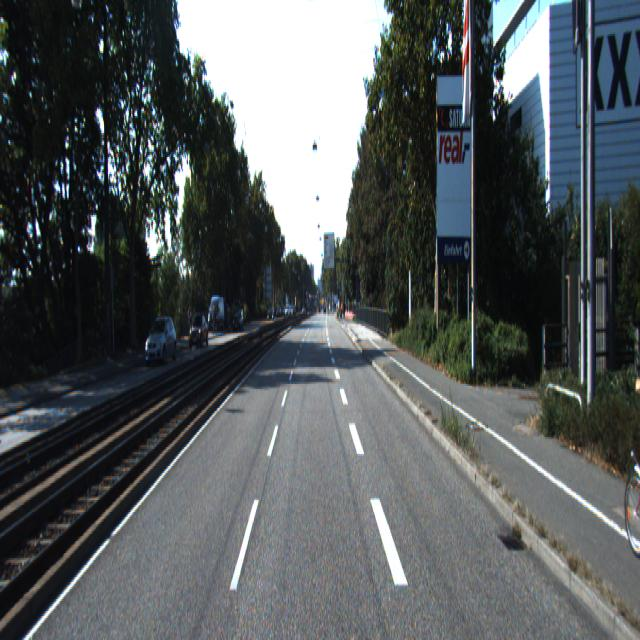Car: (144, 316, 178, 368), (188, 315, 209, 351)
